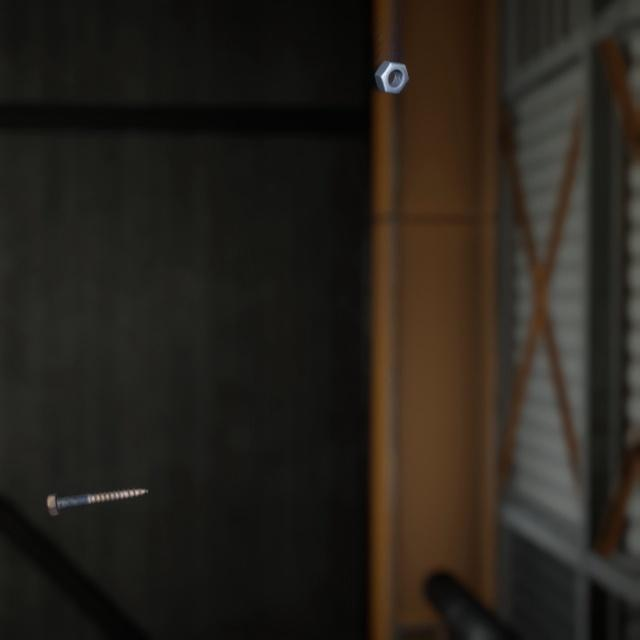bolt: (42, 462, 153, 499)
nut: (370, 46, 413, 88)
